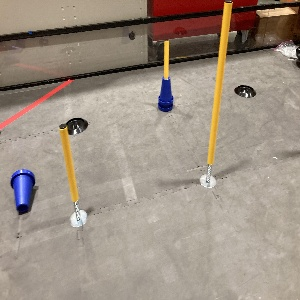Blue_1: (6, 169, 40, 216)
Blue_2: (156, 74, 174, 112)
